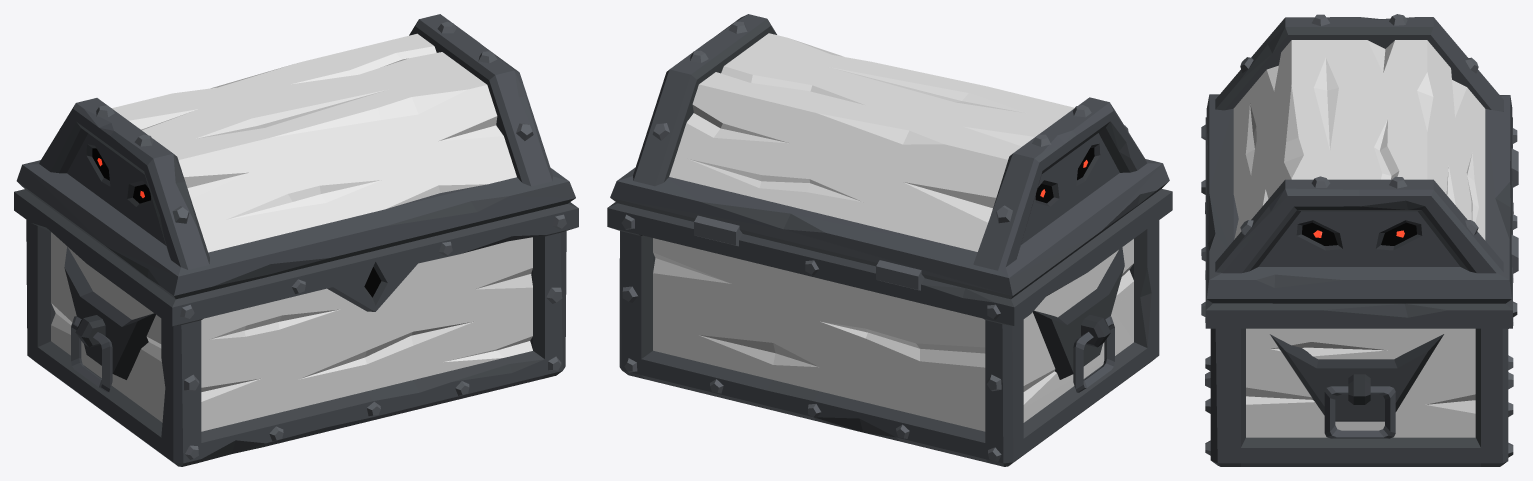
File: SM_Prop_Chest_01.fbx
The picture shows the model from 3 angles, left to right: view 1: azimuth 30°, elevation 25°; view 2: azimuth 150°, elevation 25°; view 3: azimuth 270°, elevation 25°; orthographic projection. The views are drawn at different scales.
Parts seen in each view (by area): view 1: SM_Prop_Chest_01_Lid, SM_Prop_Chest_01; view 2: SM_Prop_Chest_01, SM_Prop_Chest_01_Lid; view 3: SM_Prop_Chest_01_Lid, SM_Prop_Chest_01.
Boxes of the visible parts, <box> form: SM_Prop_Chest_01_Lid: <box>16,14,575,299</box>; SM_Prop_Chest_01: <box>14,189,578,466</box>; SM_Prop_Chest_01: <box>607,189,1172,466</box>; SM_Prop_Chest_01_Lid: <box>610,14,1169,299</box>; SM_Prop_Chest_01_Lid: <box>1206,14,1512,303</box>; SM_Prop_Chest_01: <box>1201,117,1518,466</box>.
Bounding box in the file's own units: 118 × 74.05 × 76.29.
3 materials, 2 textured.
